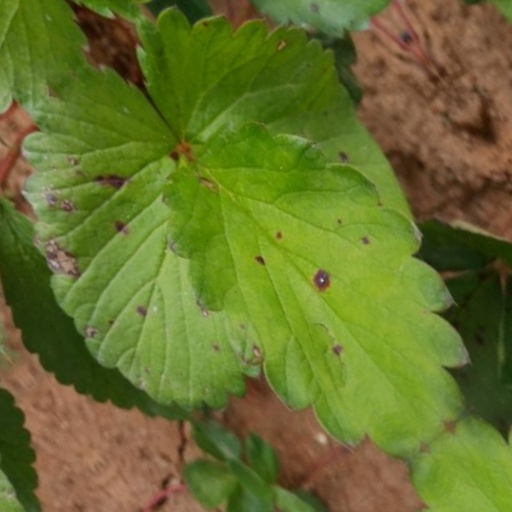Leaf Spot: (176, 128, 398, 511), (66, 0, 275, 358), (273, 0, 450, 345), (411, 2, 511, 156)
